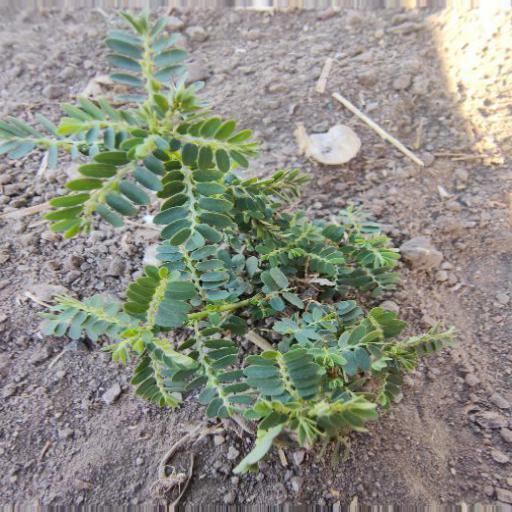weed: (29, 34, 444, 447)
